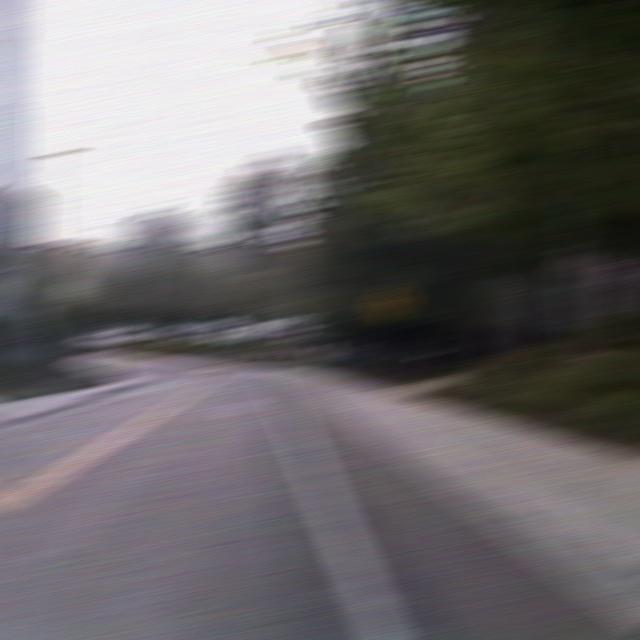pedestrianCrossing: (366, 280, 412, 323)
